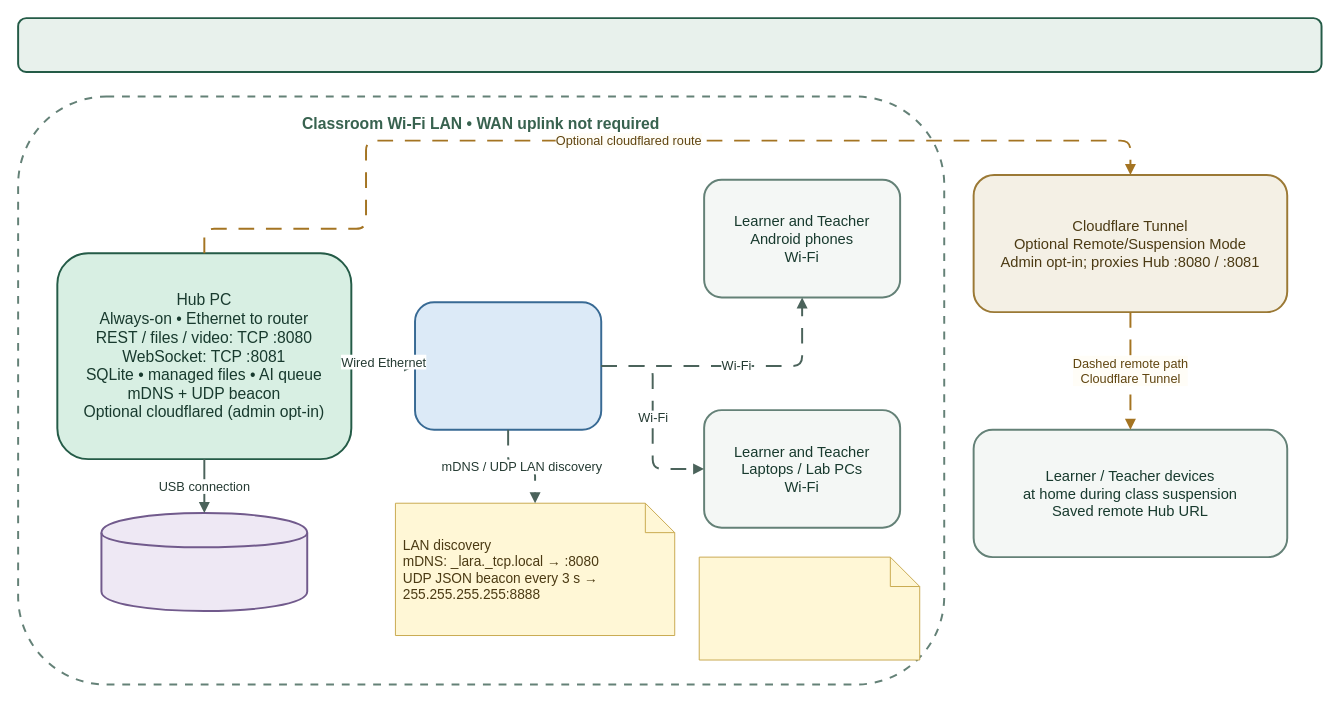
This 1339x702 diagram has some shape labels left out. The shapes that lost their labels are listed below. From the top down, each one's centre as x and y in pixels, then its label:
the point at 669,45: L.A.R.A Physical Classroom Network
the point at 508,365: Wi-Fi Router / Hotspot LAN switch and access point
the point at 204,562: USB drive class export / backup
the point at 809,608: Hub services :8080 REST, files and video :8081 WebSocket events and tutor tokens
